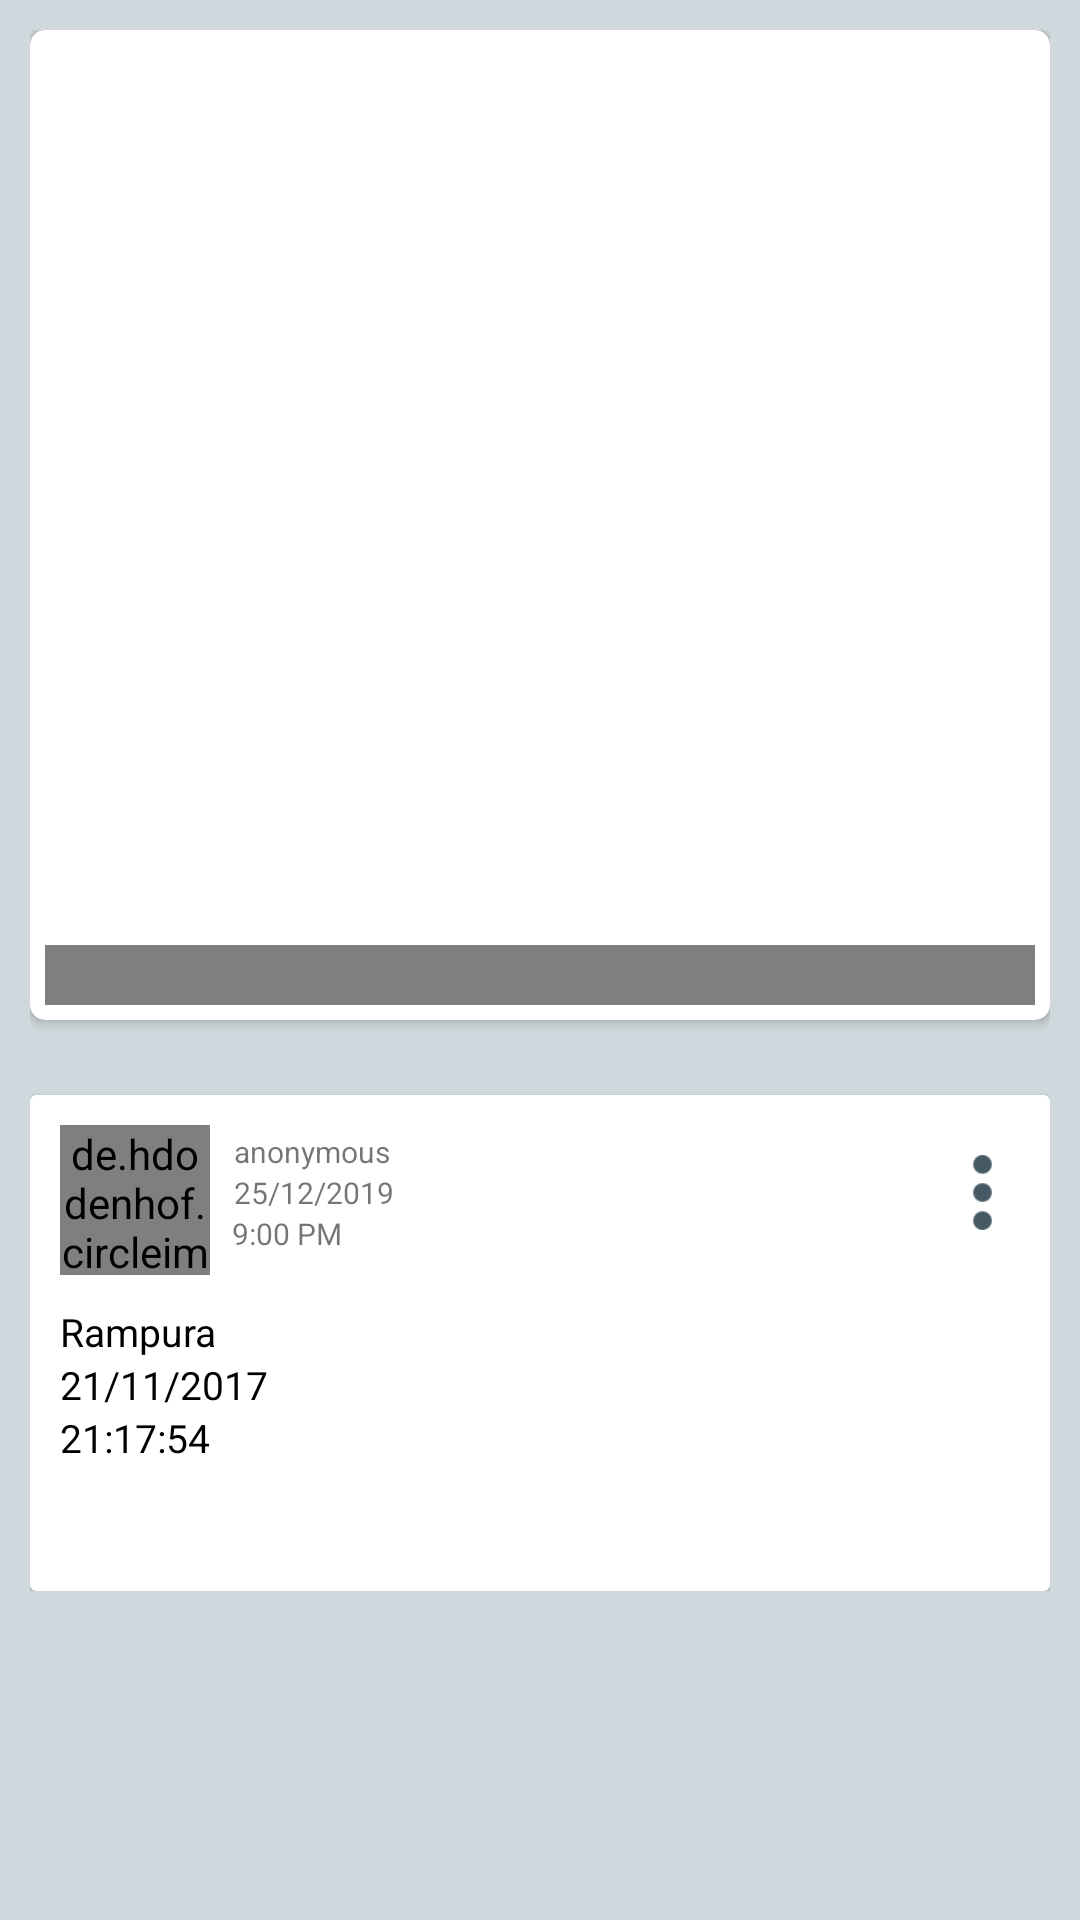

Icon bounding boxes for this 1080w x 1920h phone screenshot, format {"x1": x1, "y1": y1, "x2": x2, "y2": y2}:
menu: {"x1": 973, "y1": 1155, "x2": 992, "y2": 1230}
